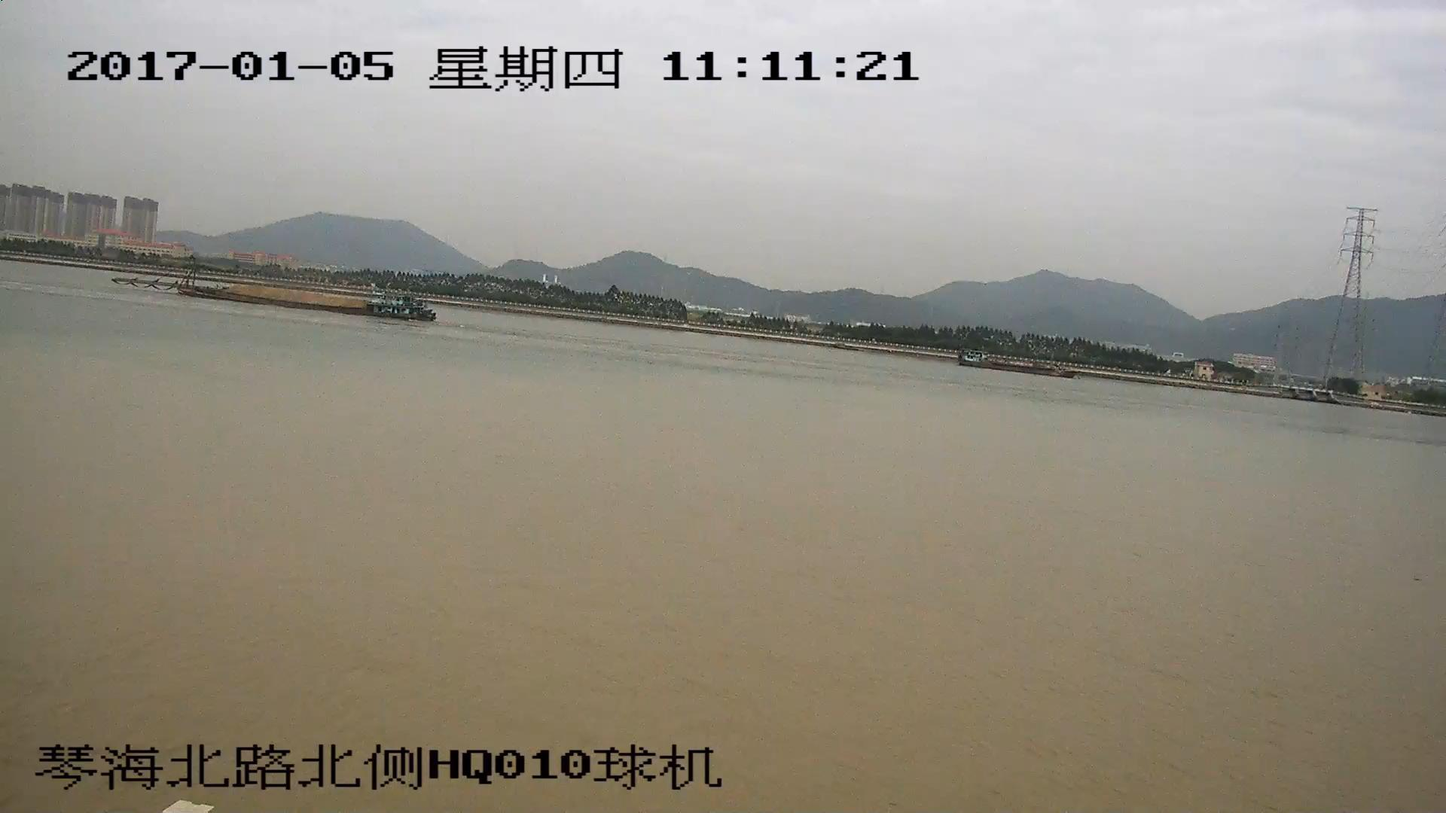ore carrier: (114, 261, 430, 324)
